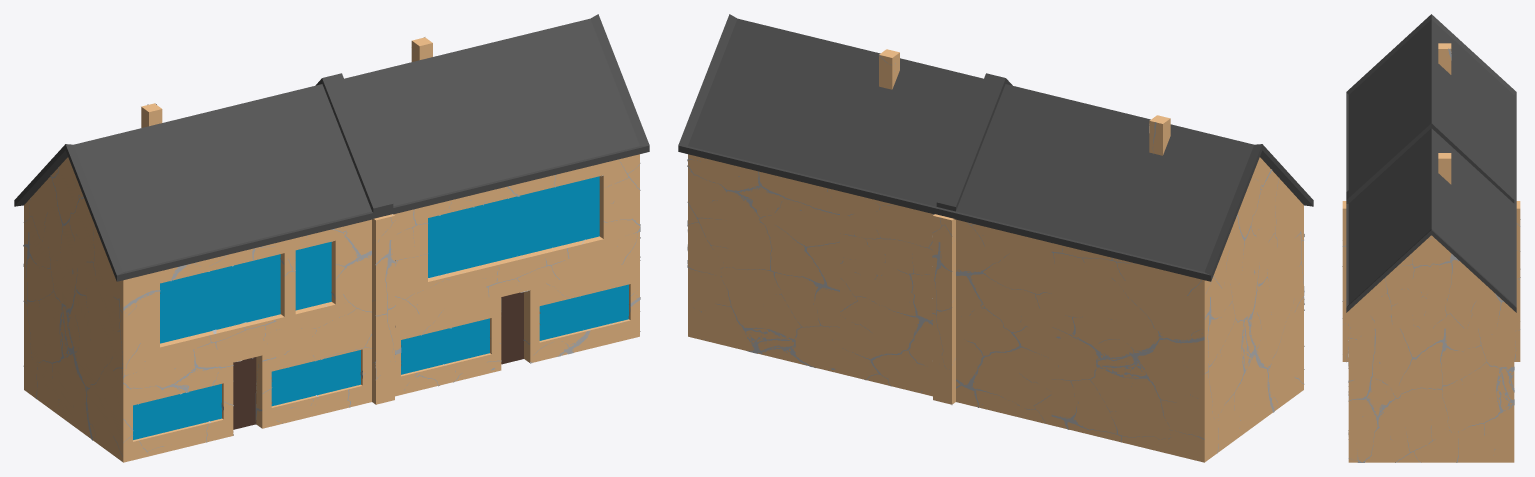
File: House_01.fbx
The picture shows the model from 3 angles, left to right: view 1: azimuth 30°, elevation 25°; view 2: azimuth 150°, elevation 25°; view 3: azimuth 270°, elevation 25°; orthographic projection. The views are drawn at different scales.
Parts seen in each view (by area): view 1: House_01, House_01_Cracked; view 2: House_01, House_01_Cracked; view 3: House_01, House_01_Cracked.
Boxes of the visible parts, <box> form: House_01: <box>14,14,649,462</box>; House_01_Cracked: <box>23,37,640,456</box>; House_01: <box>678,14,1313,462</box>; House_01_Cracked: <box>687,54,1304,453</box>; House_01: <box>1342,14,1520,462</box>; House_01_Cracked: <box>1342,48,1520,462</box>.
Bounding box in the file's own units: 302 × 159 × 106.
